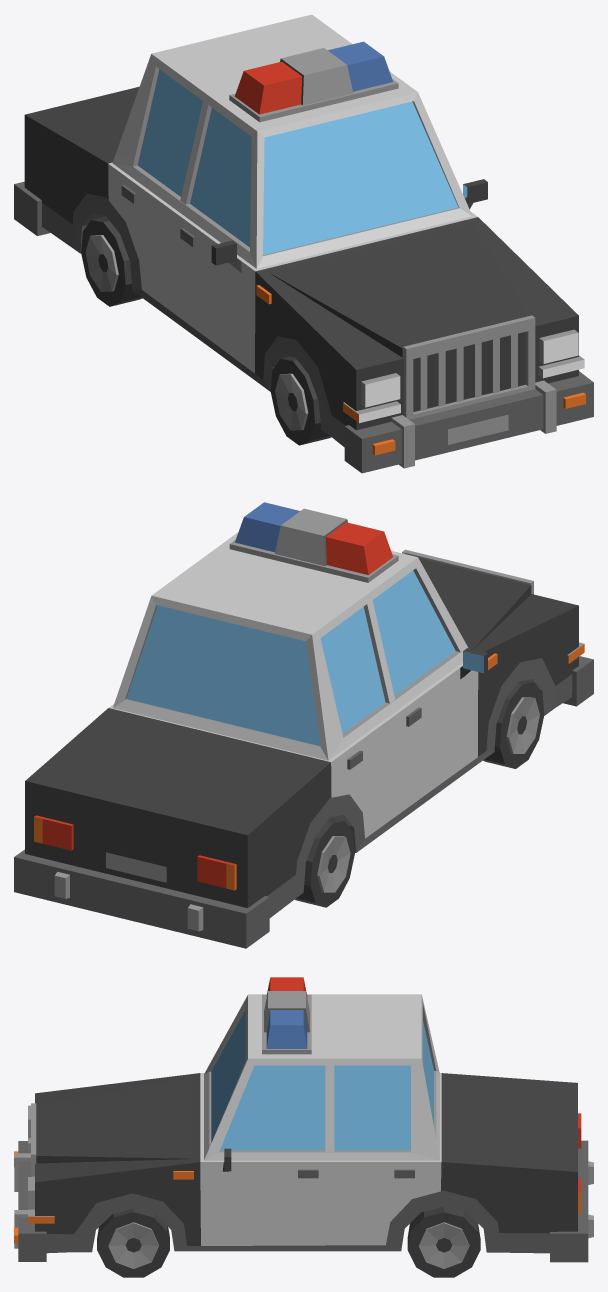
File: Car_Police.fbx
3 renders of one model, top to bottom at view 1: azimuth 30°, elevation 25°; view 2: azimuth 150°, elevation 25°; view 3: azimuth 270°, elevation 25°, orthographic. The views are drawn at different scales.
Parts seen in each view (by area): view 1: Car_Police; view 2: Car_Police; view 3: Car_Police.
Boxes of the visible parts, x1,y1,x2,y2 form: Car_Police: (14,14,593,473); Car_Police: (14,502,593,948); Car_Police: (14,977,593,1277).
Bounding box in the file's own units: 0.7389 × 0.7346 × 1.66.
